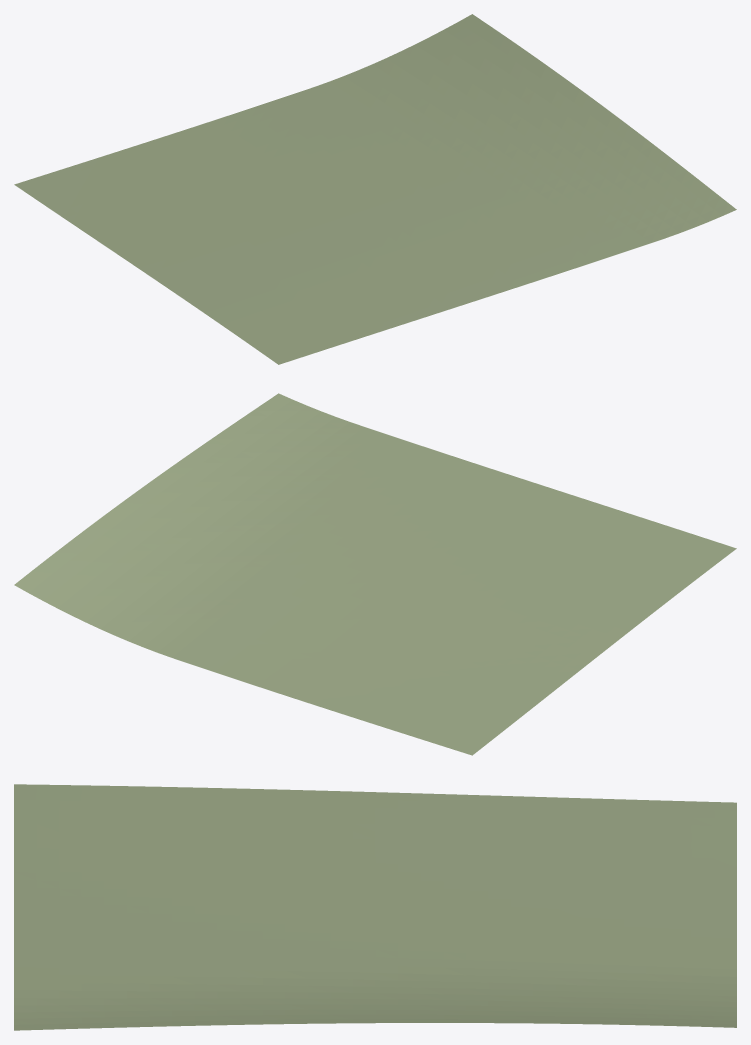
Rendered from expanse-11-6.glb.
3 views of the same model, one above another, from view 1: azimuth 30°, elevation 25°; view 2: azimuth 150°, elevation 25°; view 3: azimuth 270°, elevation 25° (orthographic). The views are drawn at different scales.
Parts seen in each view (by area): view 1: expanse-11-6; view 2: expanse-11-6; view 3: expanse-11-6.
Boxes of the visible parts, bbox=[...] form: expanse-11-6: bbox=[14, 14, 736, 364]; expanse-11-6: bbox=[14, 393, 736, 755]; expanse-11-6: bbox=[14, 784, 736, 1030].
Bounding box in the file's own units: 256 × 33.27 × 256.
